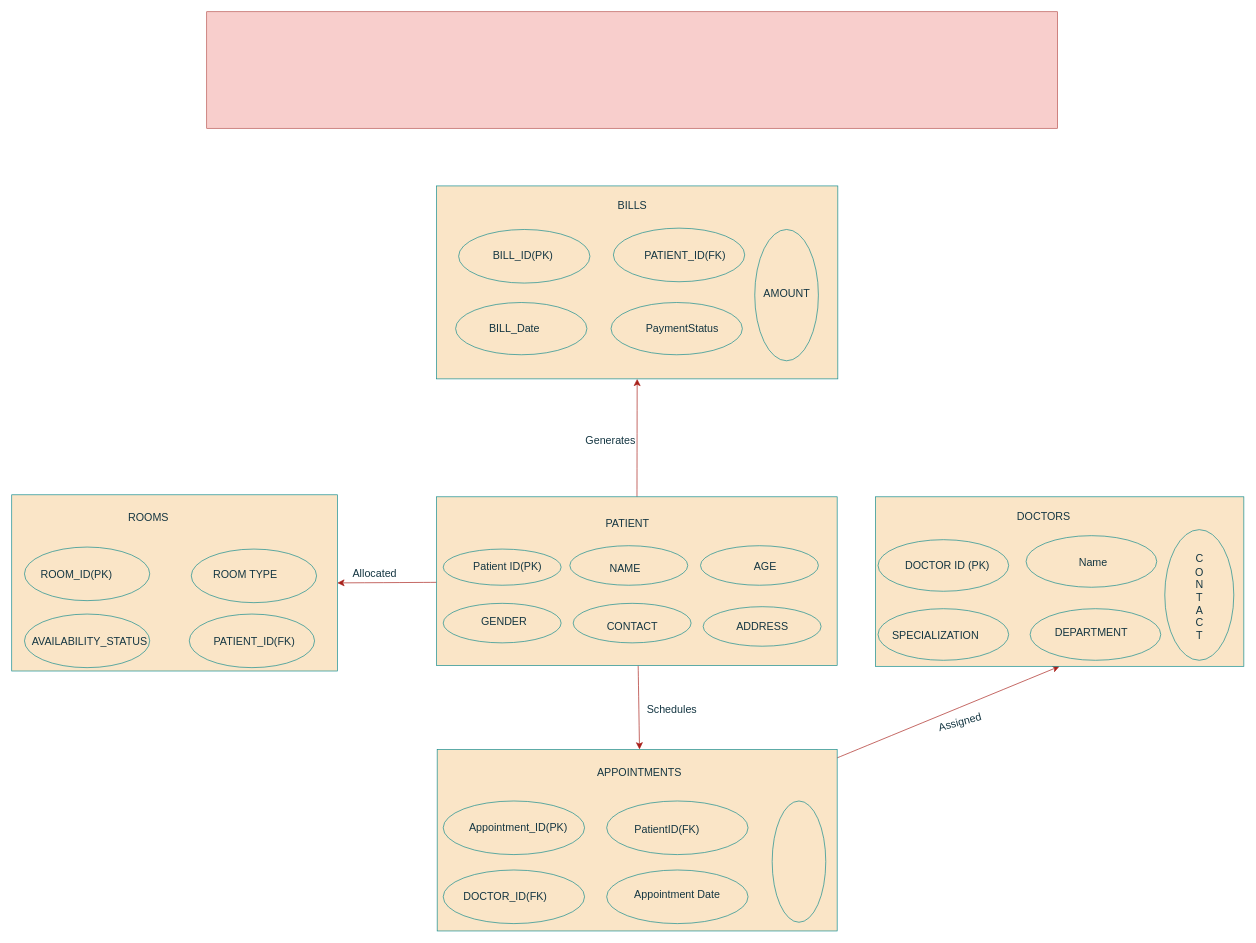
Some shapes in this 1256 by 943 pixel diagram are drawn without their labels. The shapes that lost their labels are listed below. From the top down, each one's centre as x and y in pixels, then its label:
point (632, 69): ER DIAGRAM
point (799, 861): S T A T U S
